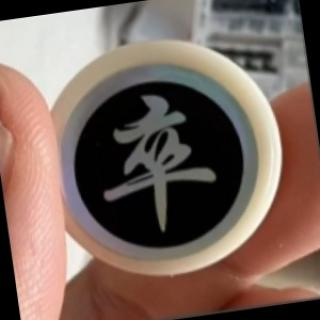qizi: (46, 42, 288, 265)
